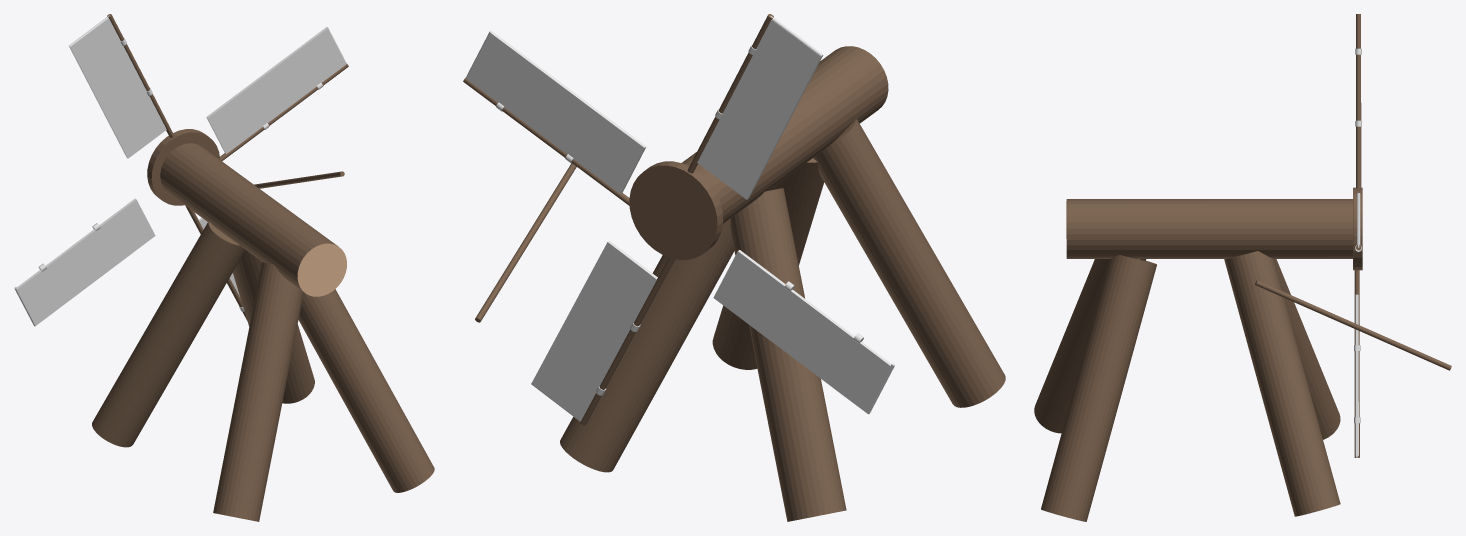
Rendered from mühle_neu.glb.
3 renders of one model, left to right at view 1: azimuth 30°, elevation 25°; view 2: azimuth 150°, elevation 25°; view 3: azimuth 270°, elevation 25°, orthographic. The views are drawn at different scales.
Visible parts, largest first — view 1: Cylinder.008, Cylinder.006, Cylinder.004, Cylinder.007, Cube, Cube.003, Cube.001, Cylinder.005, Cylinder.009, Cylinder.010, Cylinder.018, Cylinder; view 2: Cylinder.006, Cylinder.004, Cylinder.005, Cube, Cube.003, Cube.001, Cube.002, Cylinder.008, Cylinder.009, Cylinder.007, Cylinder, Cylinder.014 (+2 smaller); view 3: Cylinder.008, Cylinder.007, Cylinder.005, Cylinder.006, Cylinder.004, Cylinder, Cylinder.010, Cylinder.014, Cylinder.009, Cube.002.
Boxes of the visible parts, bbox=[...] form: Cylinder.008: bbox=[160, 143, 346, 296]; Cylinder.006: bbox=[213, 262, 303, 521]; Cylinder.004: bbox=[92, 221, 245, 447]; Cylinder.007: bbox=[298, 289, 434, 492]; Cube: bbox=[17, 198, 155, 325]; Cube.003: bbox=[206, 28, 345, 153]; Cube.001: bbox=[70, 19, 166, 158]; Cylinder.005: bbox=[232, 249, 314, 403]; Cylinder.009: bbox=[147, 129, 220, 205]; Cylinder.010: bbox=[107, 14, 174, 137]; Cylinder.018: bbox=[220, 63, 348, 160]; Cylinder: bbox=[254, 171, 344, 188]; Cylinder.006: bbox=[813, 119, 1005, 407]; Cylinder.004: bbox=[730, 188, 846, 521]; Cylinder.005: bbox=[560, 218, 734, 472]; Cube: bbox=[713, 250, 891, 412]; Cube.003: bbox=[467, 32, 646, 193]; Cube.001: bbox=[697, 20, 821, 199]; Cube.002: bbox=[531, 240, 657, 420]; Cylinder.008: bbox=[682, 46, 888, 223]; Cylinder.009: bbox=[629, 161, 723, 259]; Cylinder.007: bbox=[712, 158, 824, 369]; Cylinder: bbox=[475, 163, 576, 322]; Cylinder.014: bbox=[580, 257, 674, 425]; Cylinder.008: bbox=[1066, 199, 1352, 258]; Cylinder.007: bbox=[1041, 255, 1156, 521]; Cylinder.005: bbox=[1224, 251, 1340, 516]; Cylinder.006: bbox=[1034, 259, 1146, 433]; Cylinder.004: bbox=[1273, 259, 1340, 439]; Cylinder: bbox=[1255, 280, 1451, 370]; Cylinder.010: bbox=[1356, 14, 1361, 188]; Cylinder.014: bbox=[1354, 270, 1359, 457]; Cylinder.009: bbox=[1353, 187, 1362, 270]; Cube.002: bbox=[1355, 294, 1358, 455].
Bounding box in the file's own units: 7.04 × 8.27 × 7.28.
